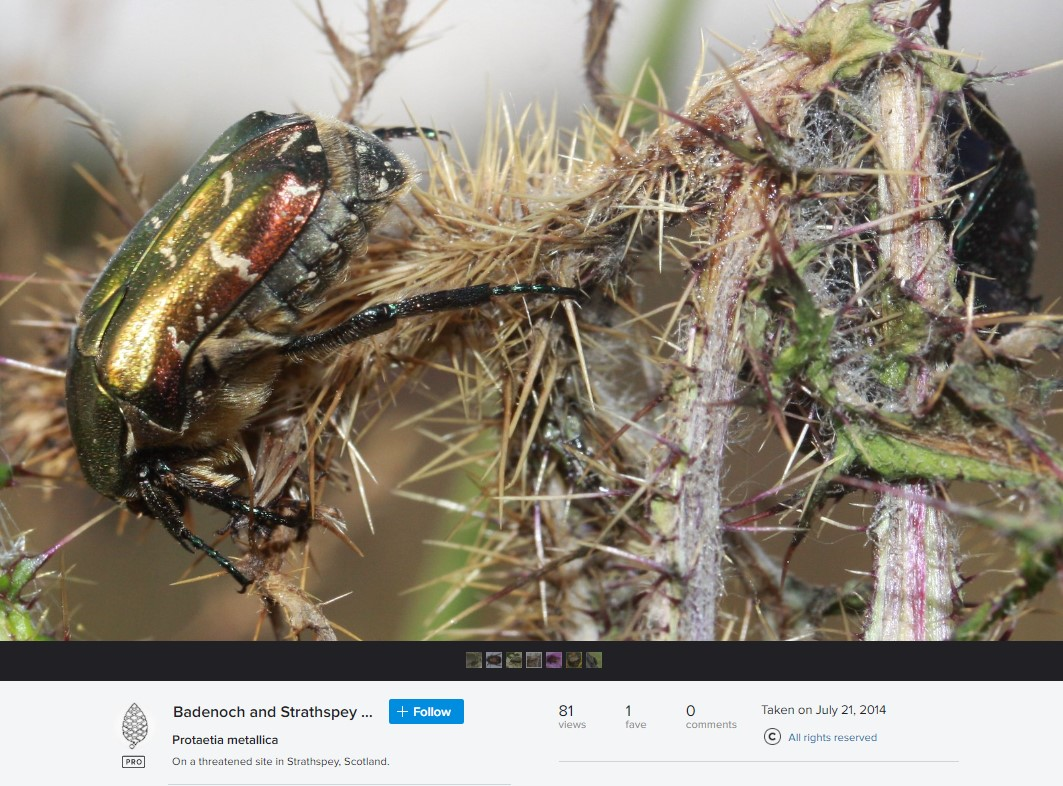Protaetia_metallica: (47, 82, 594, 588)
